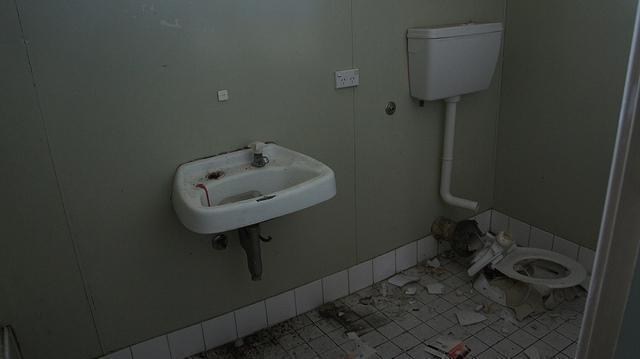Lavamanos: (171, 131, 340, 233)
